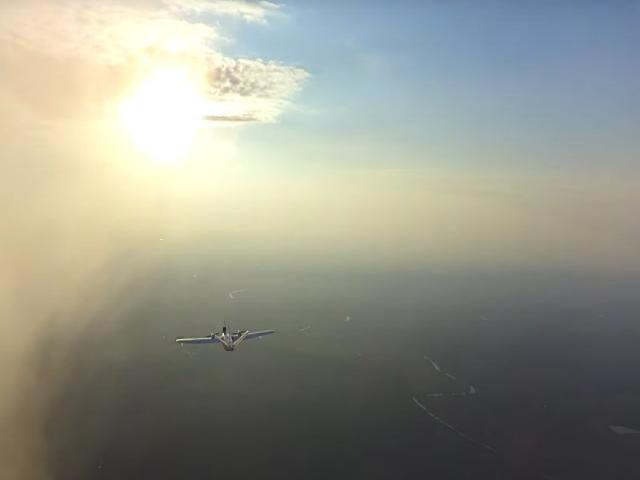iha: (174, 318, 279, 353)
